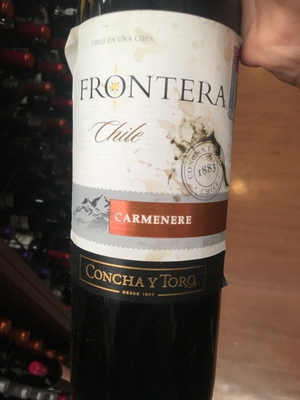frontera carmenere: (65, 10, 235, 400)
